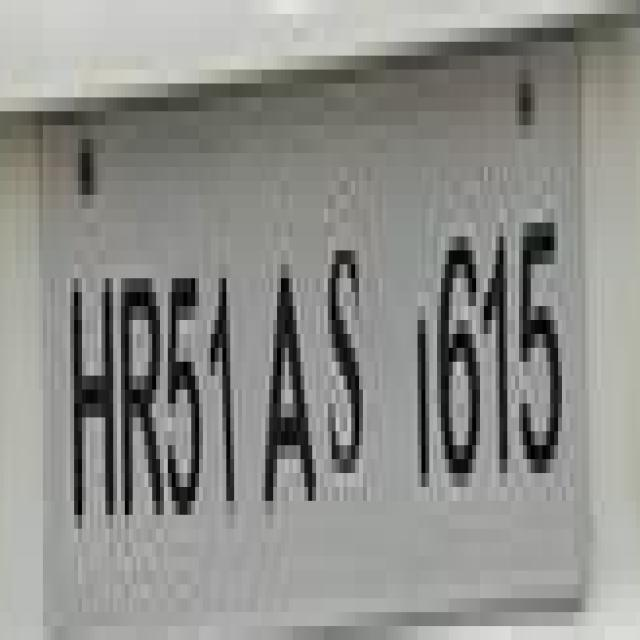plate: (19, 69, 640, 640)
